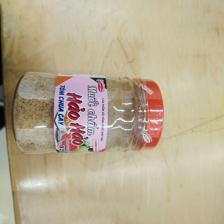Hao_hao: (12, 70, 167, 153)
